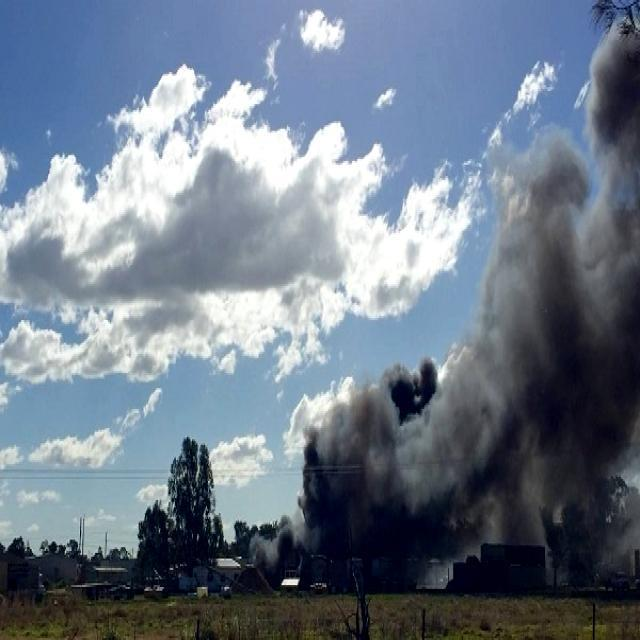Smoke: (289, 128, 640, 579)
